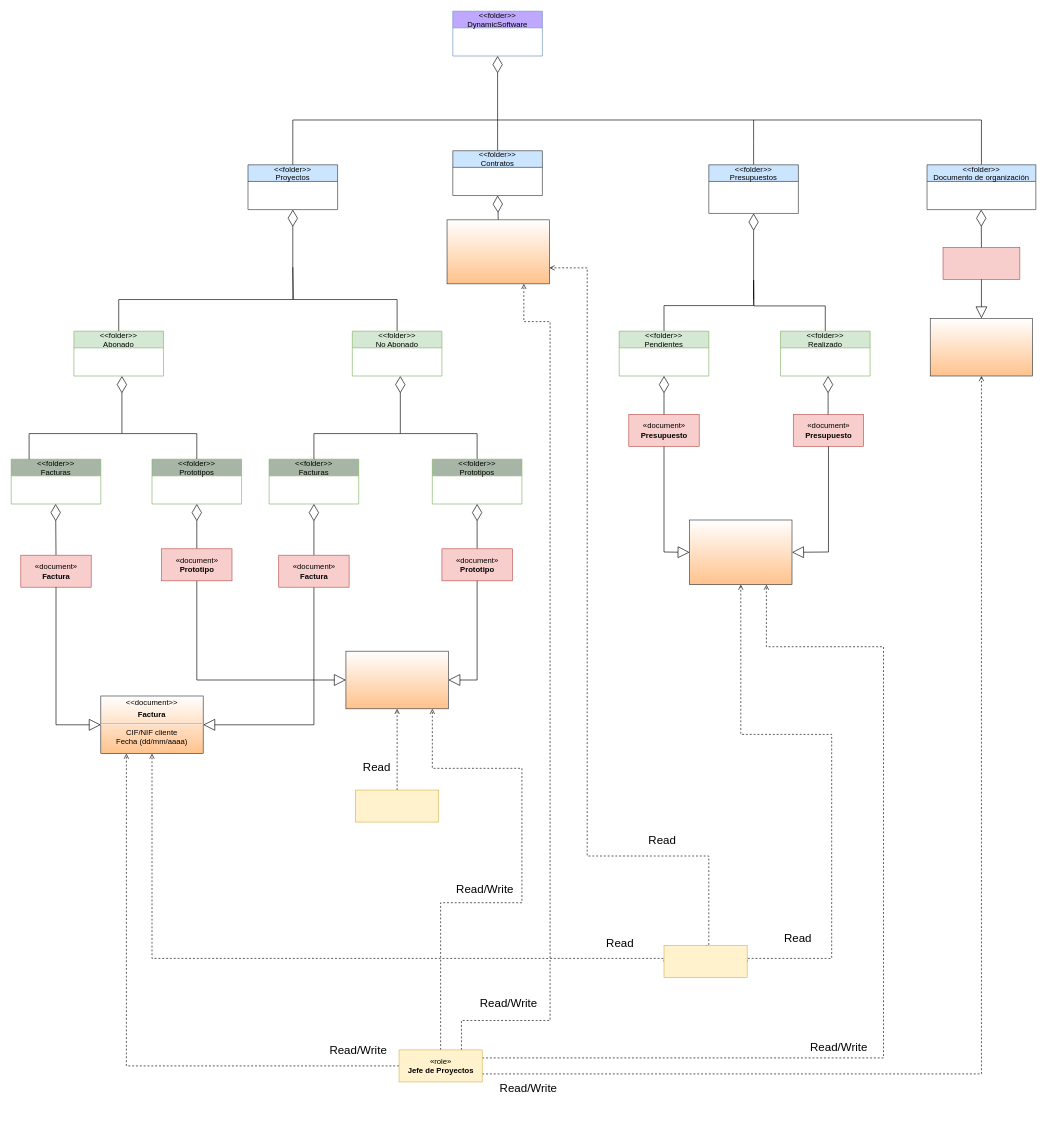
Some shapes in this 1047 by 1123 pixel diagram are drawn without their labels. The shapes that lost their labels are listed below. From the top down, each one's box as (x1, y1, x2, y2) in pixels, then its label:
(446, 219, 549, 284): <<document>> Contrato Número de proyecto CIF/NIF cliente Fecha
(942, 247, 1020, 279): «document» Planificación
(930, 318, 1033, 376): <<document>> Planificación Empleados Fecha límite
(689, 519, 792, 585): <<document>> Presupuesto CIF/NIF cliente Tecnología Fecha
(345, 651, 448, 709): <<document>> Prototipo Tecnología Jefe de Proyecto asignado
(355, 789, 439, 822): «role» Empleado
(663, 945, 747, 978): «role» Cliente
